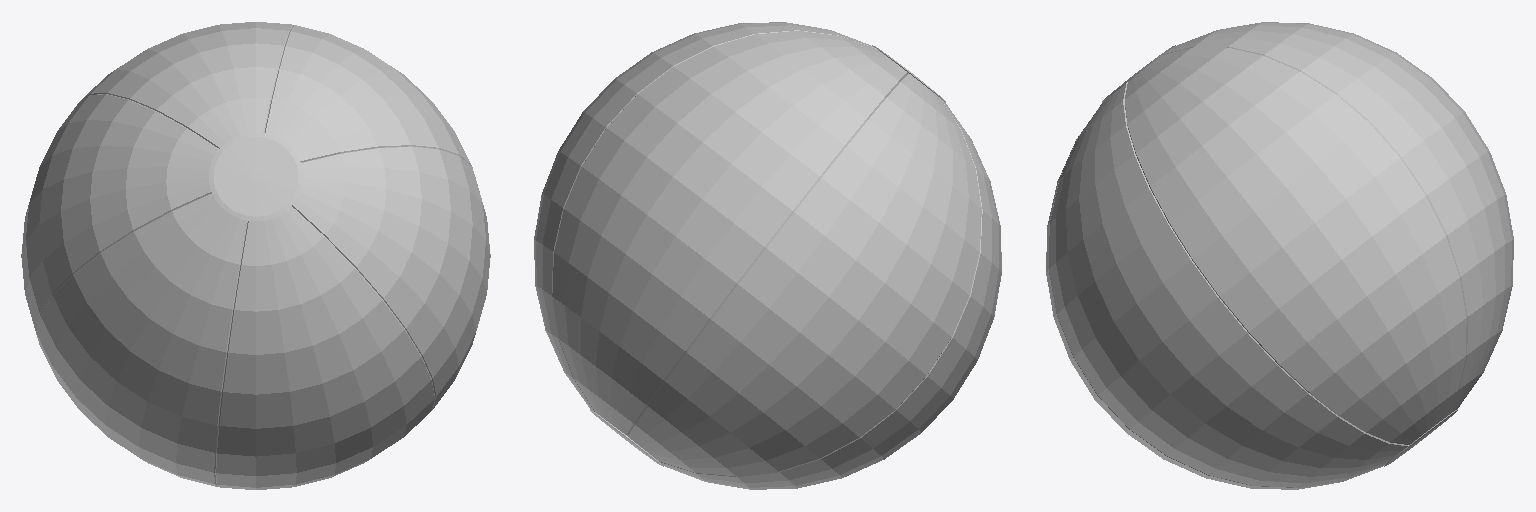
The model's file is BeachBall.obj.
The picture shows the model from 3 angles: view 1: azimuth 30°, elevation 25°; view 2: azimuth 150°, elevation 25°; view 3: azimuth 270°, elevation 25°; orthographic projection.
Parts seen in each view (by area): view 1: Sphere.002_Sphere.009; view 2: Sphere.002_Sphere.009; view 3: Sphere.002_Sphere.009.
Boxes of the visible parts, x1=… form: Sphere.002_Sphere.009: x1=21, y1=22, x2=490, y2=489; Sphere.002_Sphere.009: x1=534, y1=22, x2=1001, y2=489; Sphere.002_Sphere.009: x1=1046, y1=22, x2=1513, y2=489.
Size of the model in its own units: 1.88 by 1.88 by 1.88.